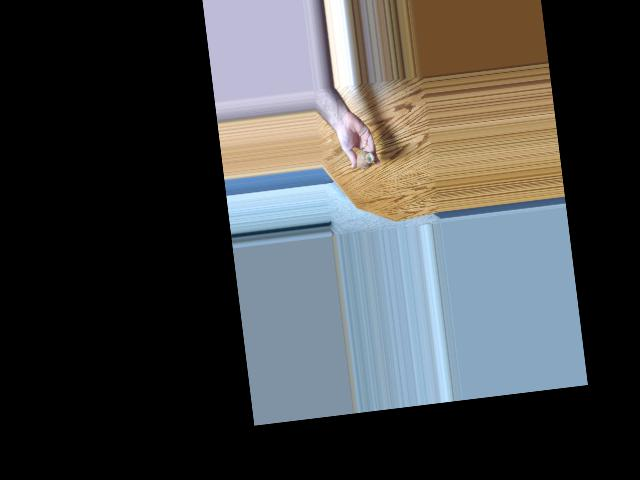sweet_potato: (354, 150, 374, 171)
